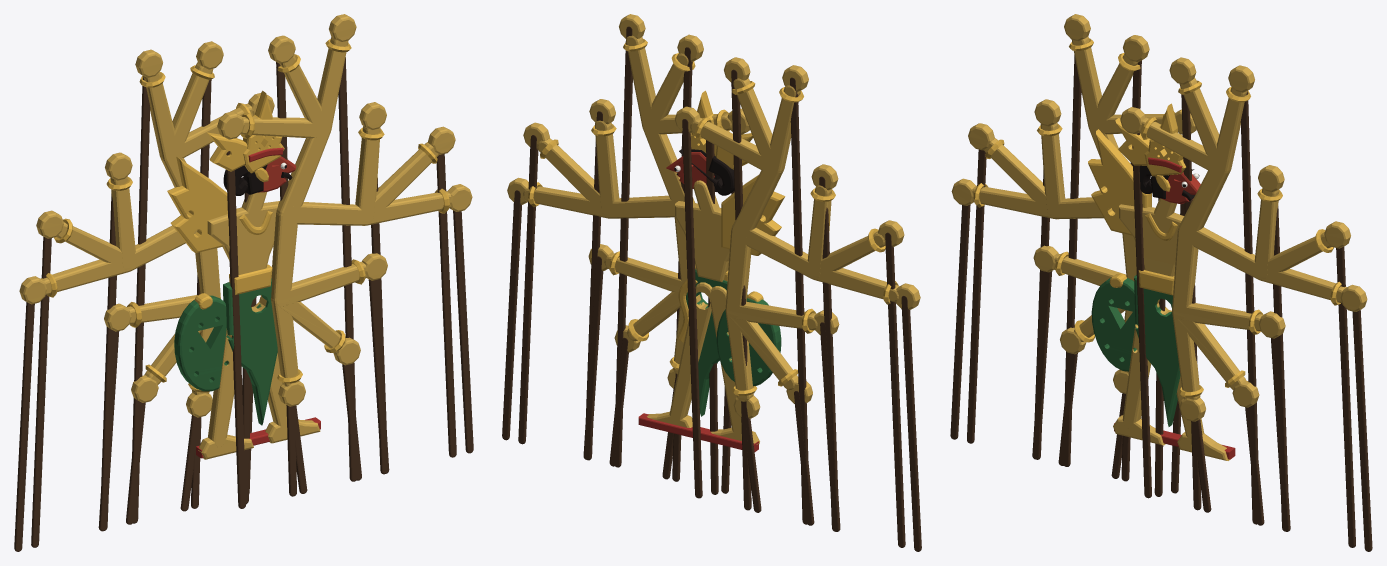
The model's file is duryudana.glb.
3 renders of one model, left to right at view 1: azimuth 30°, elevation 25°; view 2: azimuth 150°, elevation 25°; view 3: azimuth 330°, elevation 25°, orthographic. The views are drawn at different scales.
Visible parts, largest first — view 1: body, front_20, front_10, back_10, back_20, front_22, front_11, front_00, back_11, back_12, head, front_02 (+8 smaller); view 2: body, back_20, front_20, back_10, front_10, back_22, front_11, back_11, back_00, back_21, back_12, front_12 (+8 smaller); view 3: body, front_20, front_10, back_20, back_10, front_22, back_11, front_00, front_11, front_12, head, front_21 (+8 smaller).
Boxes of the visible parts, x1,y1,x2,y2 form: body: (167, 156, 320, 503); front_20: (276, 14, 356, 481); front_10: (276, 184, 473, 453); back_10: (14, 225, 197, 551); back_20: (132, 49, 186, 523); front_22: (217, 111, 323, 508); front_11: (374, 126, 456, 457); front_00: (271, 206, 307, 493); back_11: (31, 210, 122, 547); back_12: (101, 152, 135, 530); head: (207, 90, 296, 195); front_02: (271, 253, 389, 473); body: (638, 140, 785, 494); back_20: (731, 65, 808, 524); front_20: (614, 14, 694, 467); back_10: (731, 225, 921, 551); front_10: (502, 177, 694, 440); back_22: (674, 106, 780, 498); front_11: (518, 122, 600, 444); back_11: (820, 220, 905, 547); back_00: (725, 226, 761, 512); back_21: (724, 57, 783, 510); back_12: (807, 164, 838, 531); front_12: (585, 99, 619, 460); body: (1088, 129, 1235, 496); front_20: (1178, 65, 1258, 524); front_10: (1178, 226, 1372, 551); back_20: (1063, 14, 1118, 466); back_10: (950, 178, 1115, 439); front_22: (1120, 107, 1226, 498); back_11: (967, 123, 1046, 443); front_00: (1172, 226, 1211, 512); front_11: (1267, 221, 1355, 547); front_12: (1254, 165, 1288, 531); head: (1115, 103, 1200, 204); front_21: (1169, 57, 1230, 510).
Size of the model in its own units: 1.36 by 1.37 by 0.1338.
